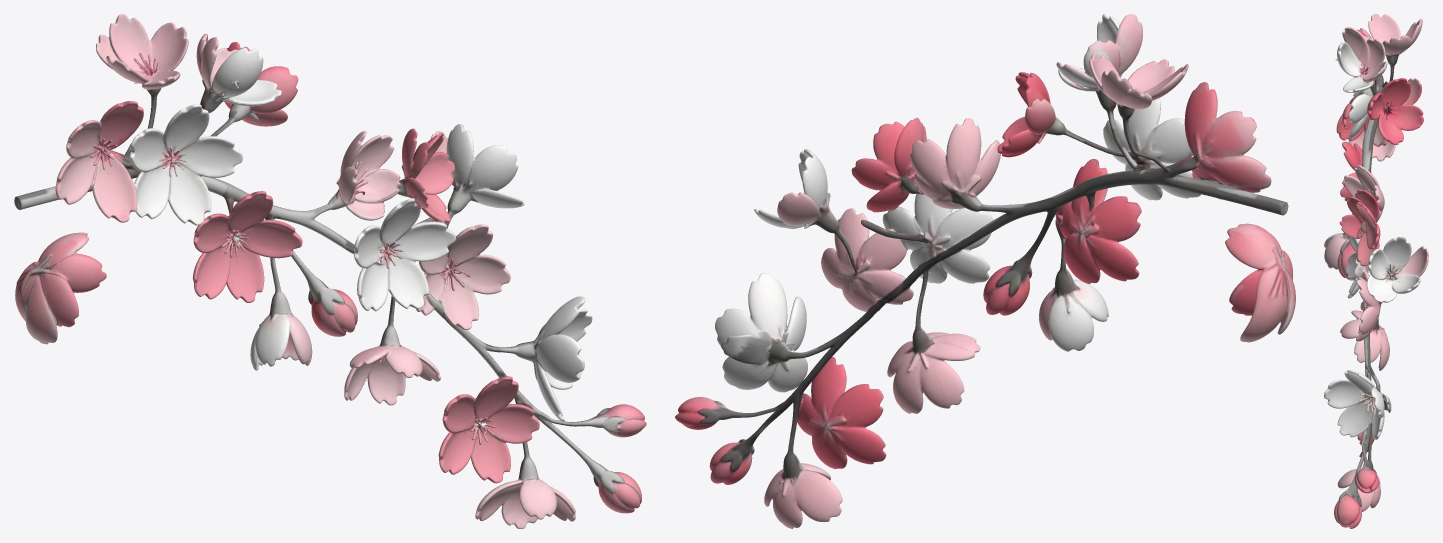
Rendered from cherry-blossom.glb.
The picture shows the model from 3 angles, left to right: view 1: azimuth 30°, elevation 25°; view 2: azimuth 150°, elevation 25°; view 3: azimuth 270°, elevation 25°; orthographic projection. The views are drawn at different scales.
Bounding box in the file's own units: 1.9 × 1.71 × 0.4301.
1 material, 1 textured.
